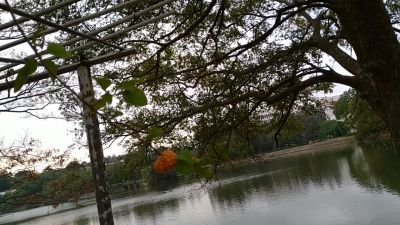eggs: (154, 148, 177, 174)
